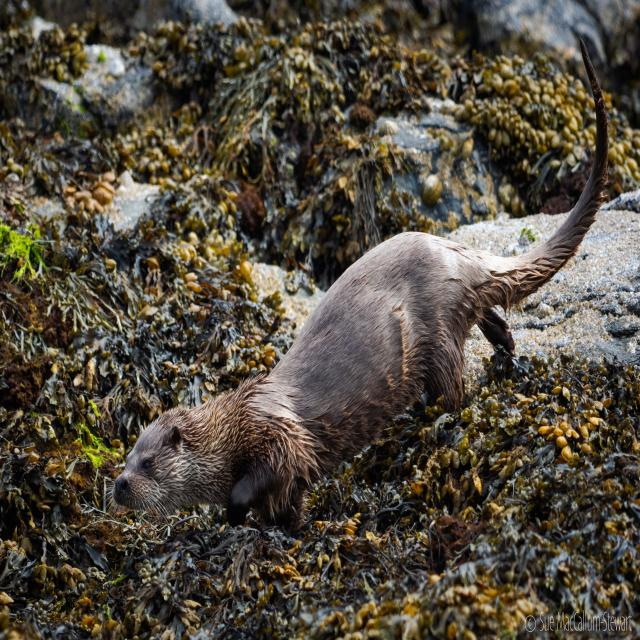otter: (114, 229, 492, 512)
